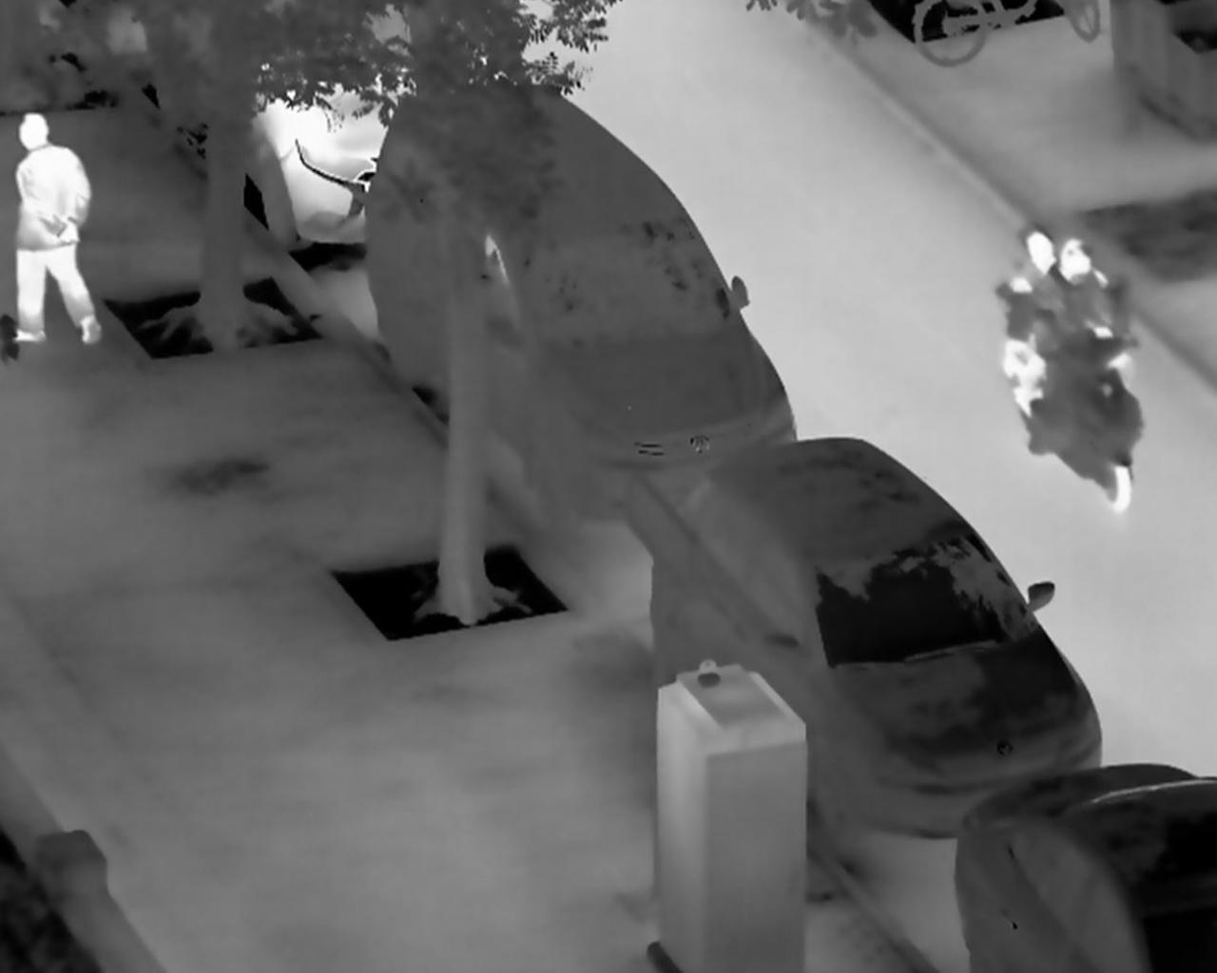person: (1017, 239, 1142, 418), (13, 112, 103, 348), (994, 225, 1065, 413)
